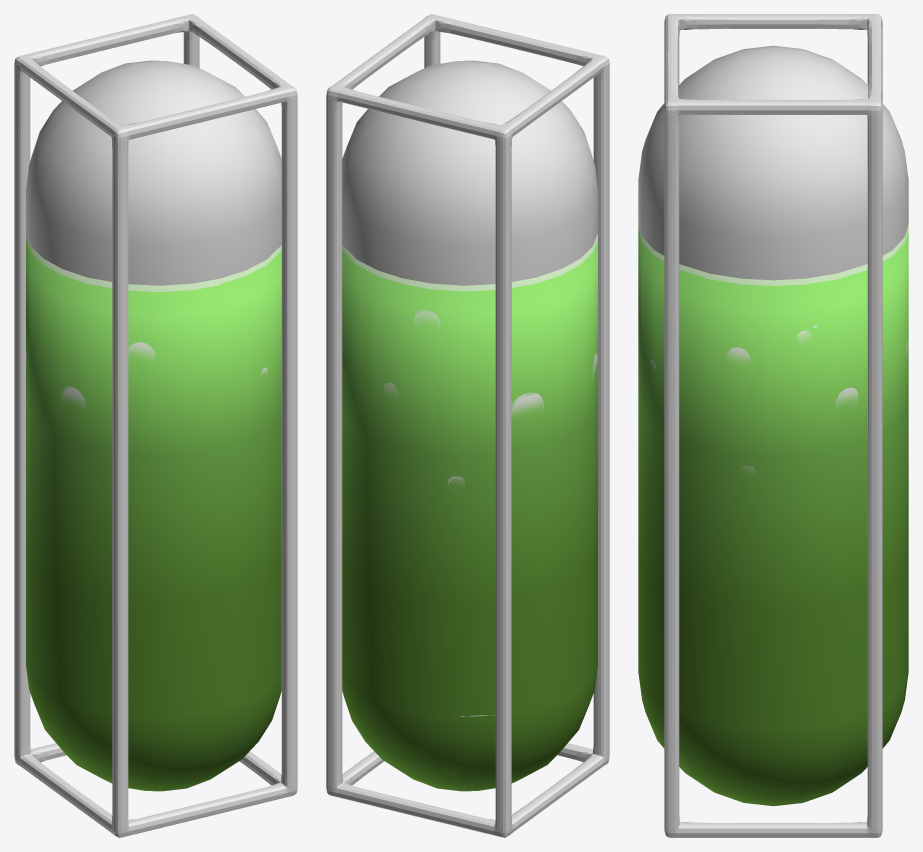
Rendered from tank.fbx.
3 renders of one model, left to right at view 1: azimuth 30°, elevation 25°; view 2: azimuth 150°, elevation 25°; view 3: azimuth 270°, elevation 25°, orthographic. The views are drawn at different scales.
Parts seen in each view (by area): view 1: Capsule, Cube, Cloche; view 2: Capsule, Cube, Cloche; view 3: Capsule, Cloche, Cube.
Boxes of the visible parts, x1,y1,x2,y2 form: Capsule: [26, 233, 281, 791]; Cube: [14, 14, 297, 837]; Cloche: [26, 60, 281, 285]; Capsule: [342, 233, 597, 791]; Cube: [326, 14, 609, 837]; Cloche: [342, 60, 597, 285]; Capsule: [638, 224, 908, 806]; Cloche: [638, 45, 908, 280]; Cube: [664, 14, 882, 837].
Bounding box in the file's own units: 100 × 300 × 100.
